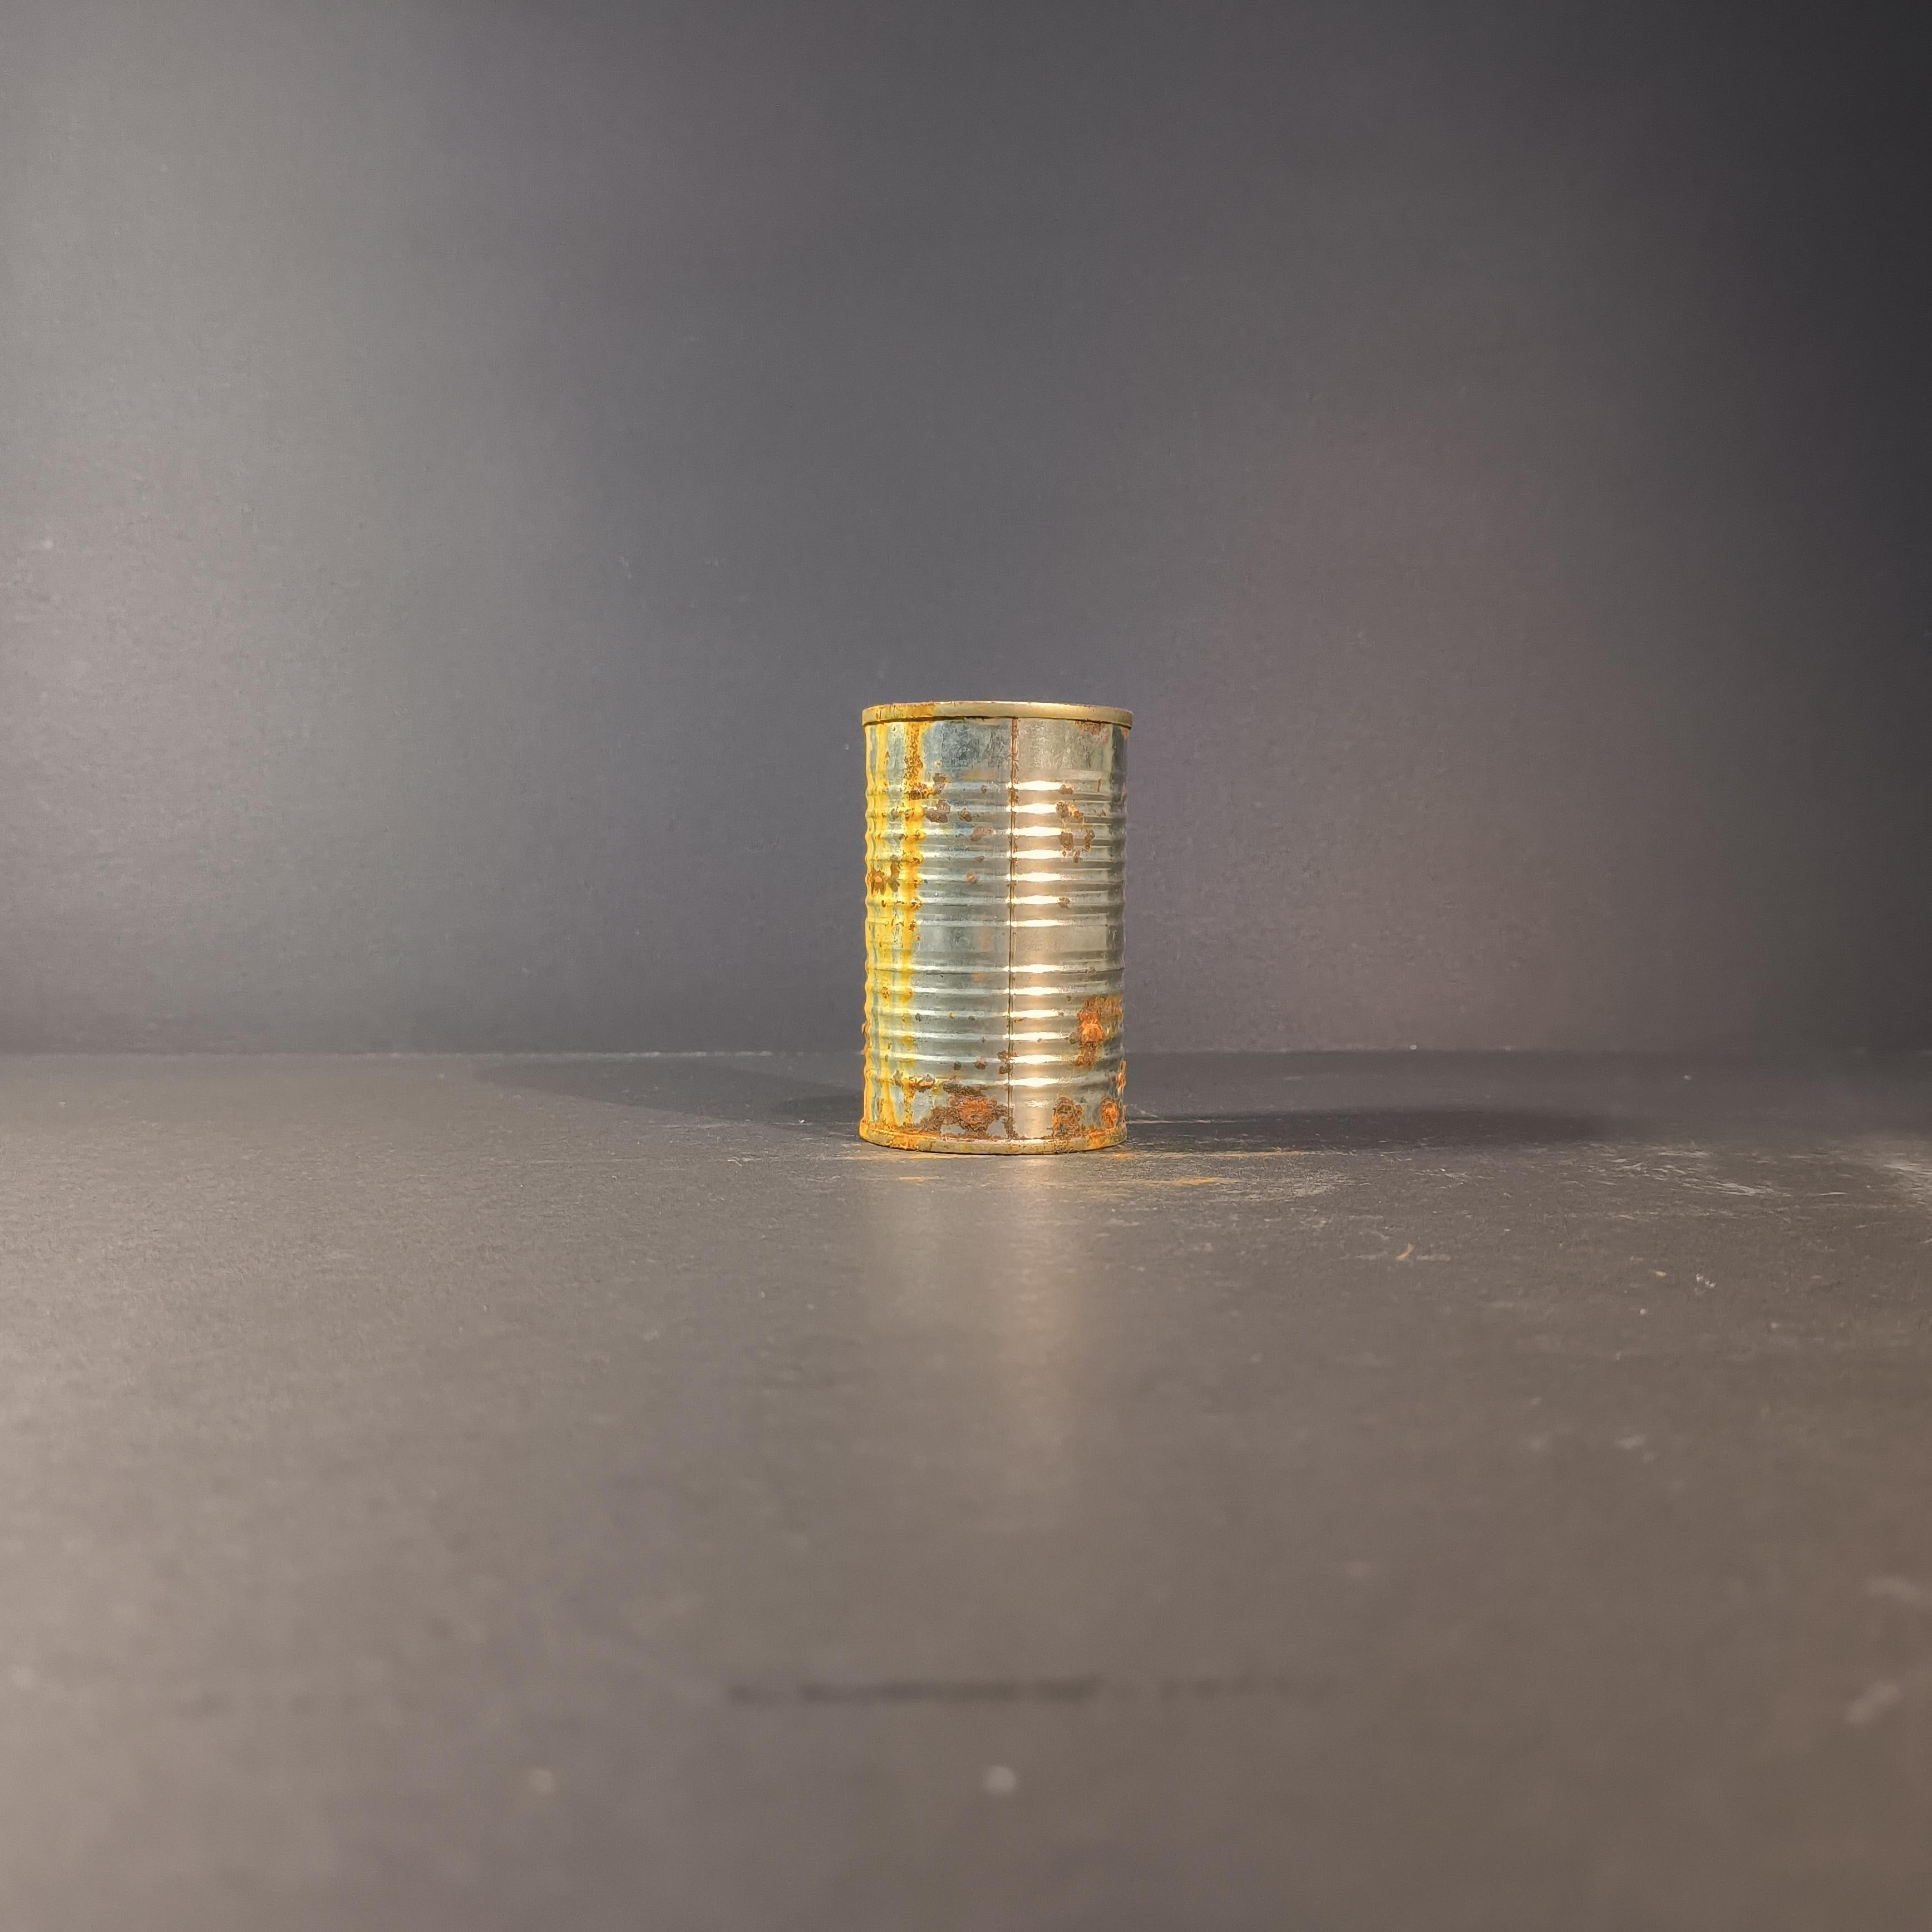Rusted: (849, 681, 1157, 1187)
